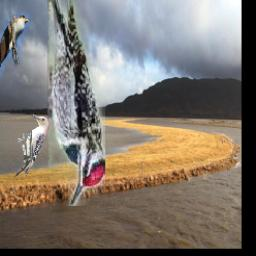Cuckoo: (0, 12, 31, 98)
Woodpecker: (47, 0, 105, 206), (13, 113, 50, 179)
